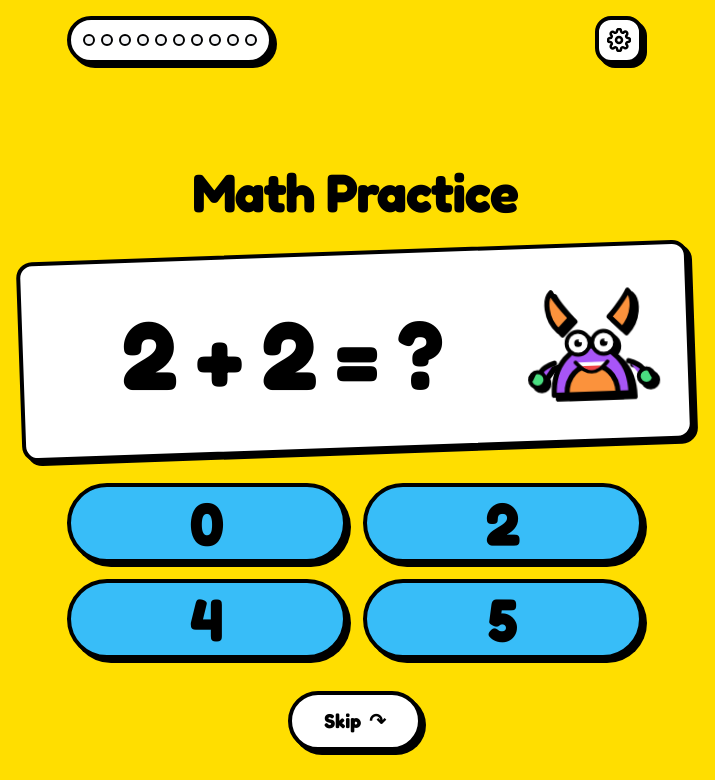
Test case: Home Page answer feedback › reveals the answer in the equation once correct
Expected: the text with test id "equation-answer" reads "?", [398,294,444,412]
Click the button "4".
click(207, 619)  # box [67,579,347,659]
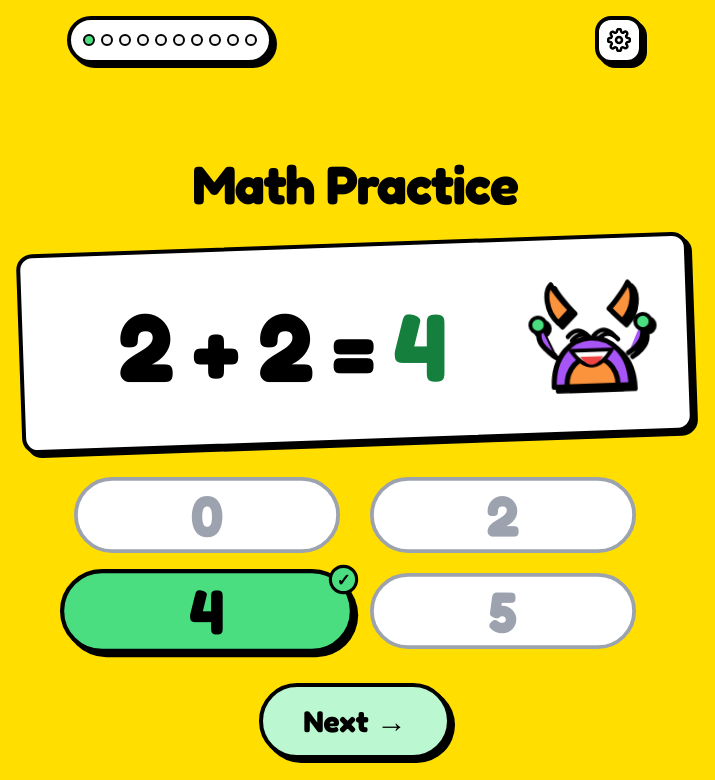
Expected: the text with test id "equation-answer" reads "4", [394,286,447,404]
